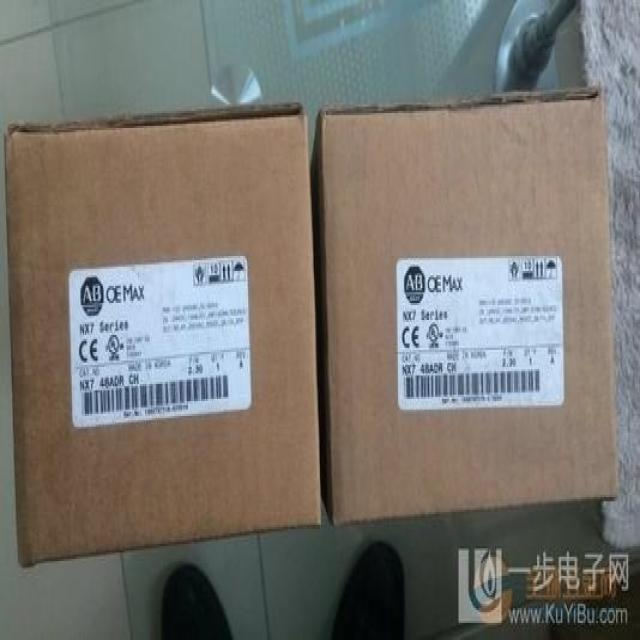box: (4, 102, 321, 567), (310, 85, 620, 527)
